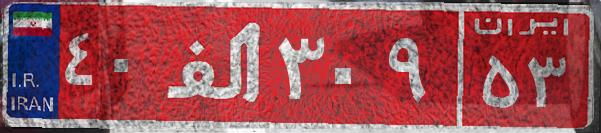0: (330, 28, 385, 110), (110, 28, 158, 105)
3: (273, 28, 330, 110), (525, 38, 570, 115)
4: (57, 26, 110, 107)
5: (475, 38, 525, 113)
9: (385, 28, 445, 110)
الف: (158, 15, 273, 115)
